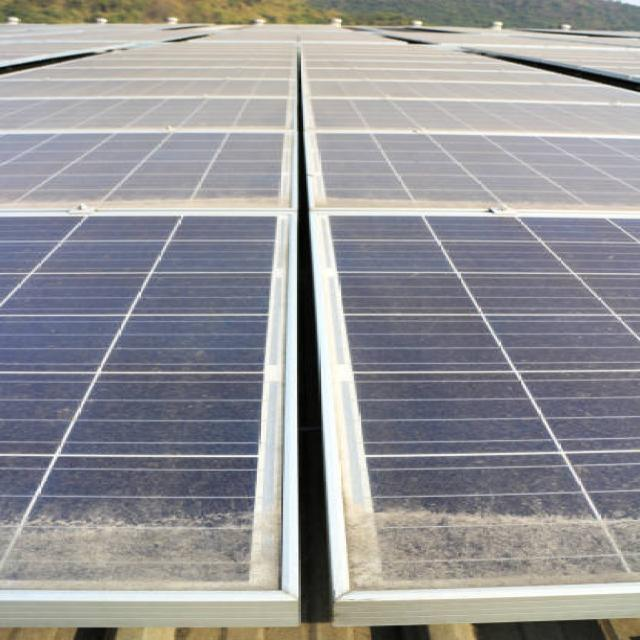dust-solar-panel: (0, 21, 640, 218), (0, 518, 638, 591)
